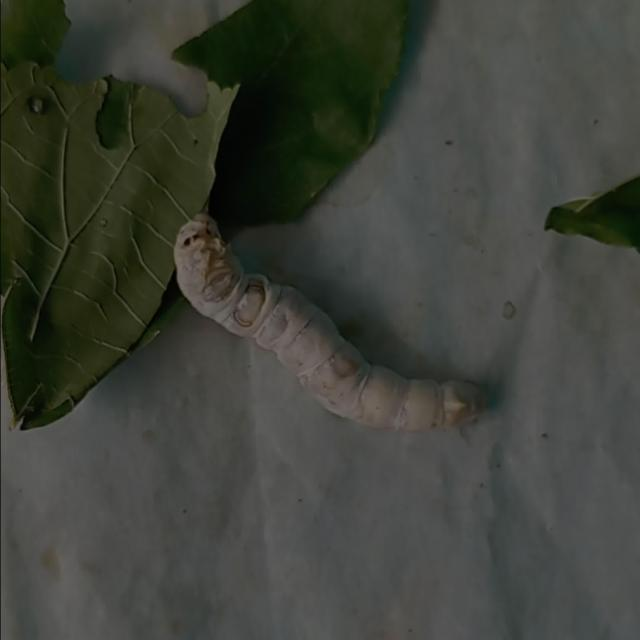Grasserie: (163, 209, 501, 437)
